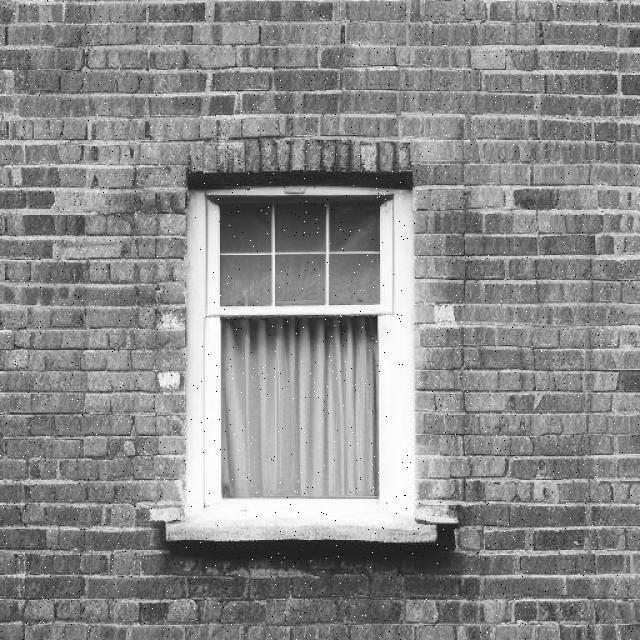window: (186, 170, 414, 520)
